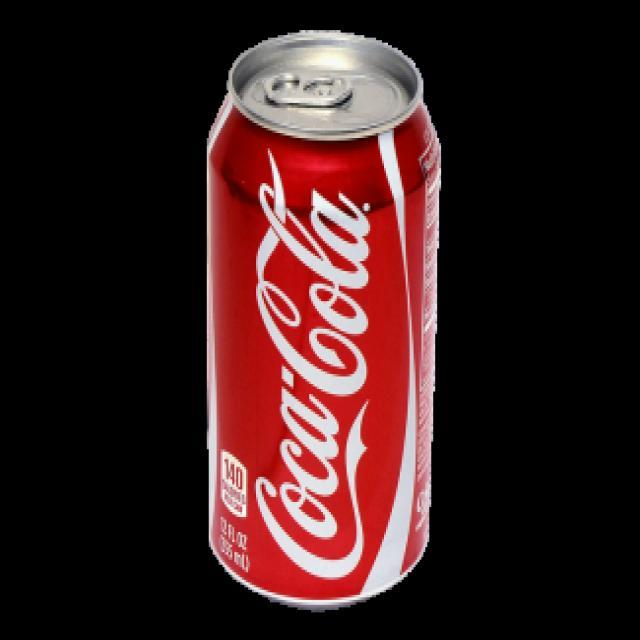kimloai: (206, 31, 443, 611)
